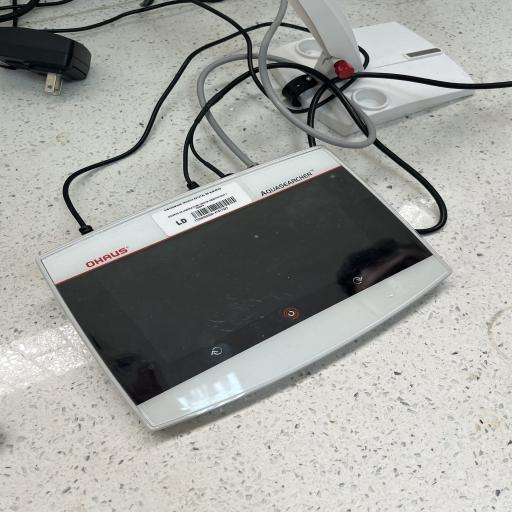Phmetro_Ohaus: (24, 142, 460, 438)
